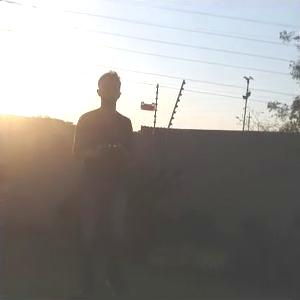follow: (69, 62, 138, 298)
